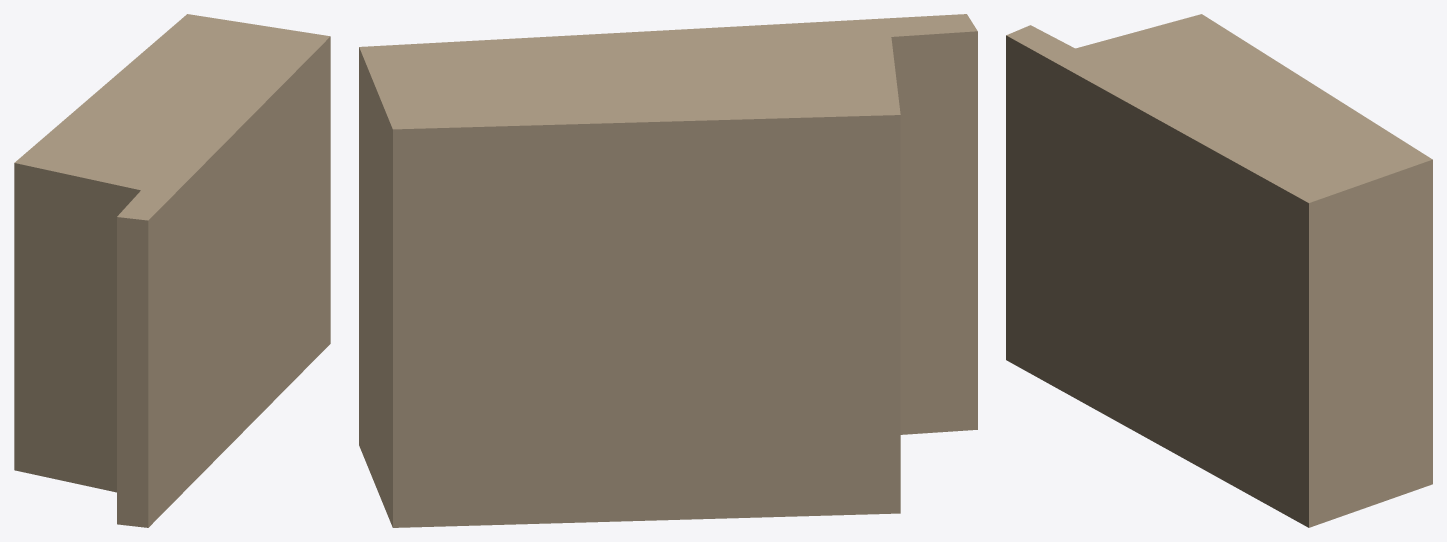
The model's file is bld_98862354.dae.
3 renders of one model, left to right at view 1: azimuth 30°, elevation 25°; view 2: azimuth 150°, elevation 25°; view 3: azimuth 270°, elevation 25°, orthographic. The views are drawn at different scales.
Visible parts, largest first — view 1: bld_98862354; view 2: bld_98862354; view 3: bld_98862354.
Boxes of the visible parts, <box> form: bld_98862354: <box>14,14,330,527</box>; bld_98862354: <box>359,14,977,527</box>; bld_98862354: <box>1006,14,1432,527</box>.
Bounding box in the file's own units: 9.99 × 9.53 × 8.
